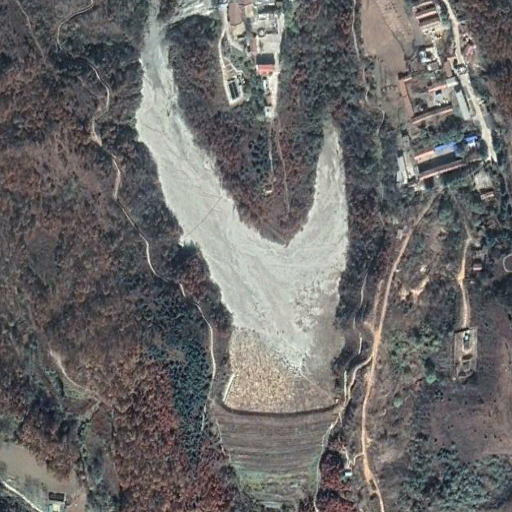tp: (138, 25, 347, 500)
